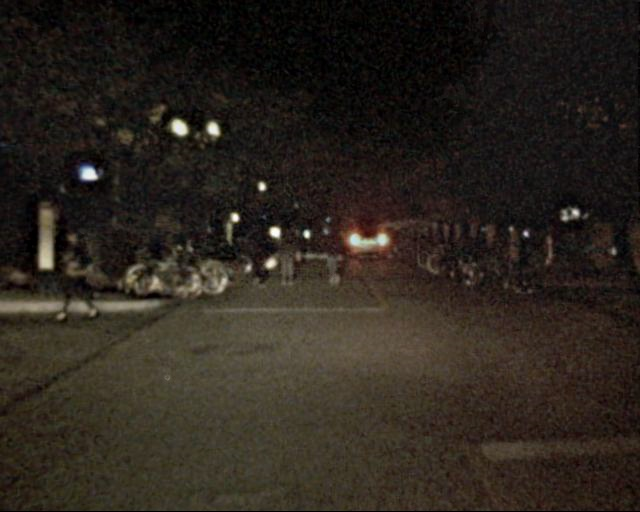person: (56, 224, 103, 326), (244, 217, 271, 286), (277, 221, 303, 292), (316, 222, 343, 288)
